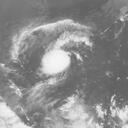cyclone: (40, 48, 71, 77)
